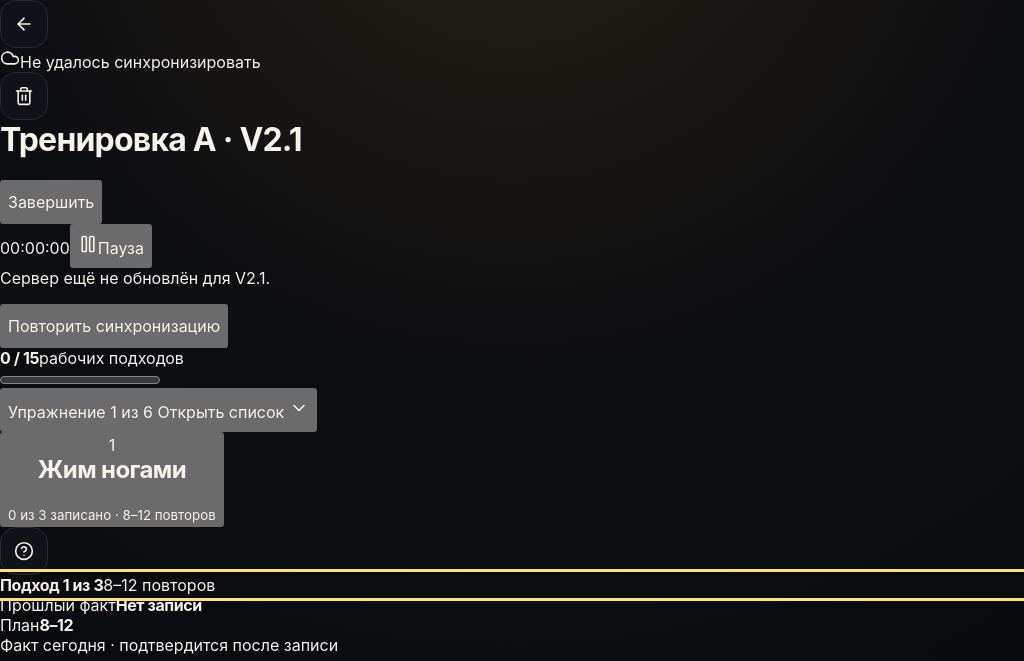
does not claim cloud success after a rejected save, and a manual retry succeeds
Expected: the text "Сервер ещё не обновлён для V2.1." is shown, [0,268,270,288]
Expected: the text "Сохранено в облаке" is not shown
Click the button "Повторить синхронизацию" at (114, 326), box [0,304,228,348]
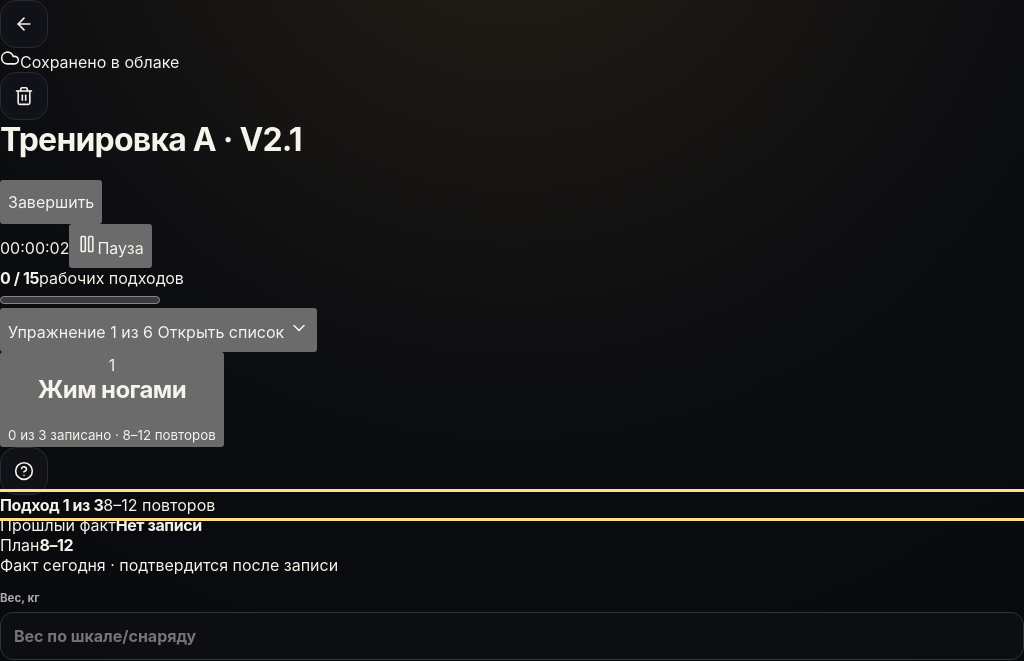
Expected: the text "Сохранено в облаке" is shown, [20,52,179,72]
